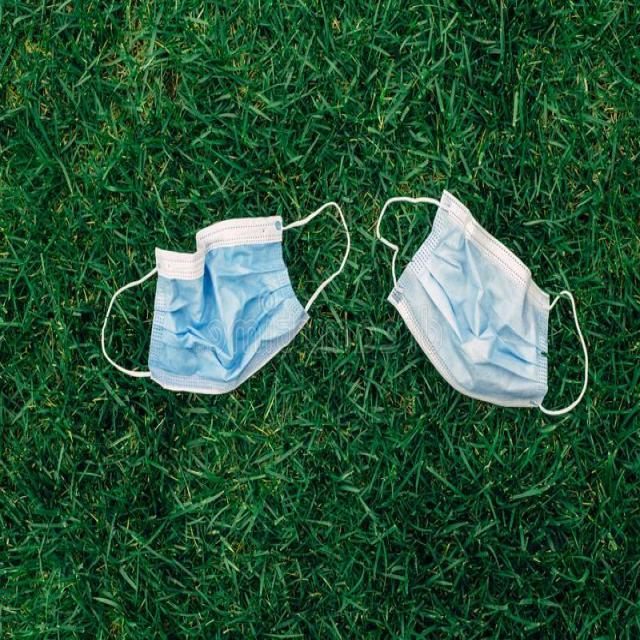face mask: (374, 190, 589, 420), (102, 200, 348, 394)
